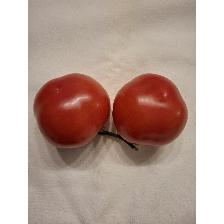Tomate: (31, 66, 191, 158)
